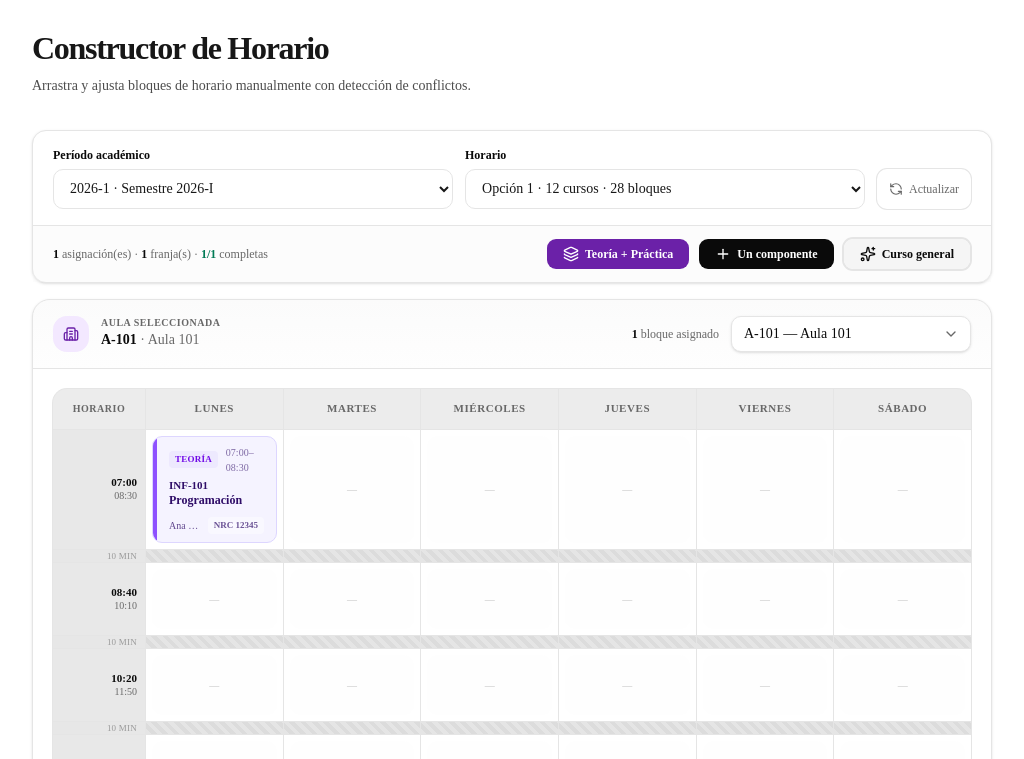
Test: ScheduleBuilderScreen › abre el diálogo para agregar un componente
The image size is (1024, 759).
Click the button "Un componente". click: (766, 254)
box: [698,238,835,270]
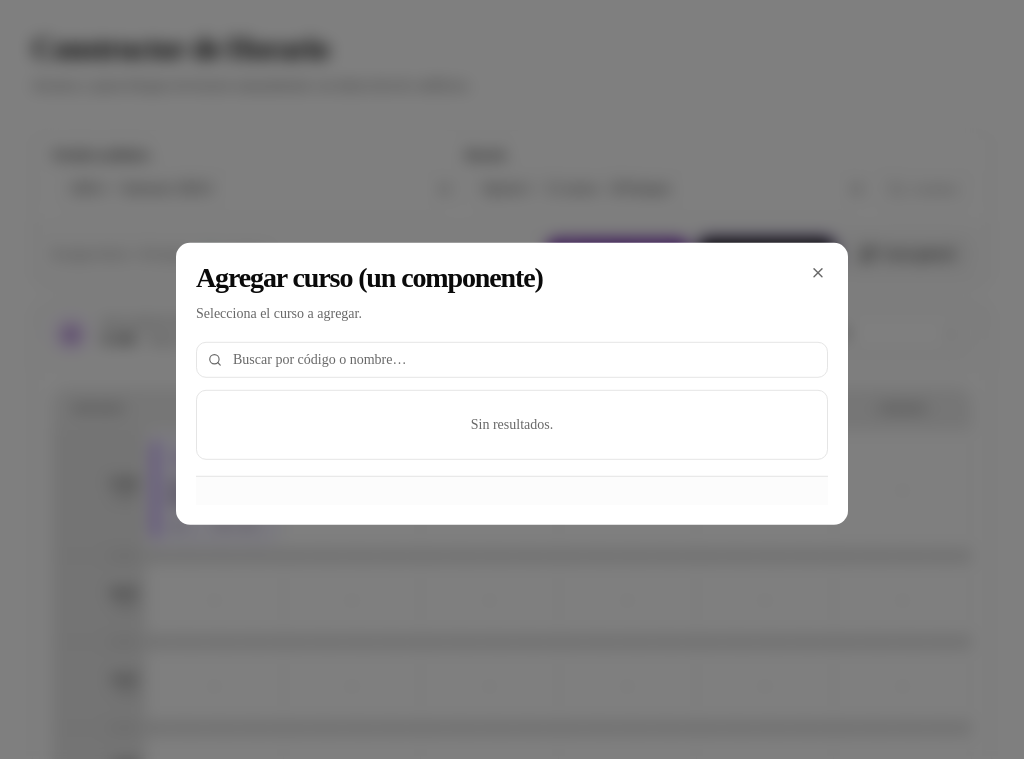
Check: the heading "Agregar curso (un componente)" is shown, box [196,263,543,292]
